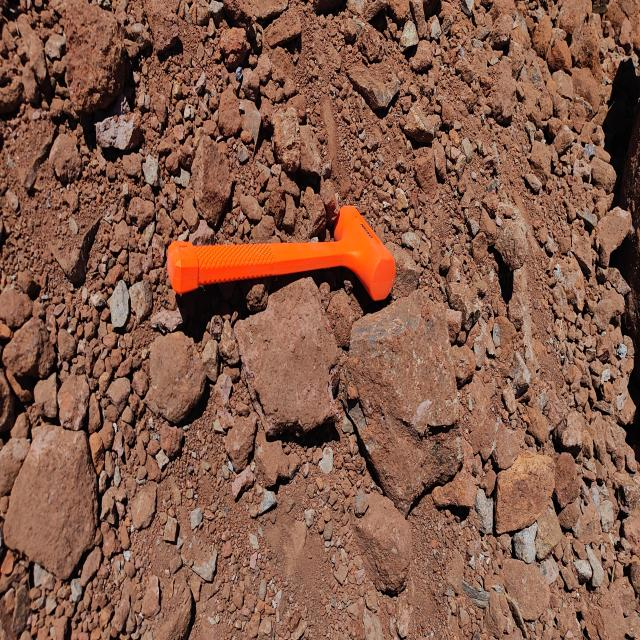Orange_hammer: (166, 203, 396, 303)
rock: (348, 298, 465, 522), (0, 428, 103, 588), (235, 281, 342, 434), (354, 486, 419, 598), (494, 446, 555, 536), (148, 332, 207, 420), (345, 46, 409, 126), (496, 217, 530, 280)
